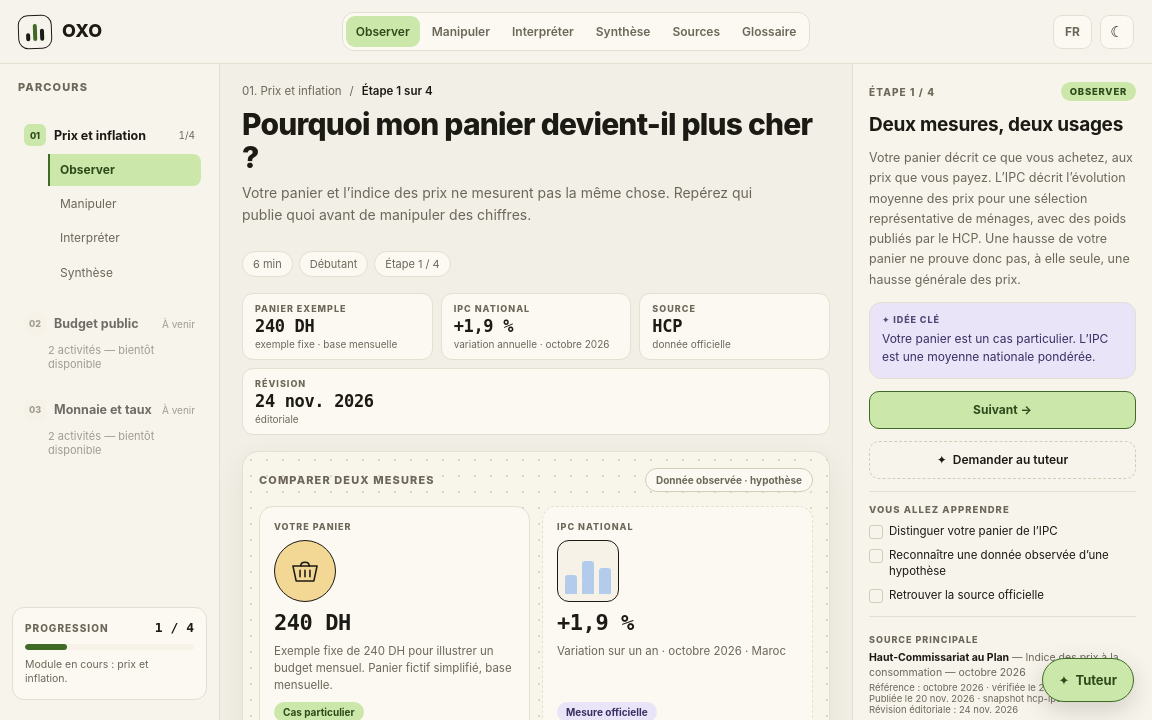
Test: App › charge le scénario réel HCP puis revient au mode hypothèse après modification
The image size is (1152, 720).
Click the button "Suivant →" at (1002, 410), box left=869, top=391, right=1136, bottom=429
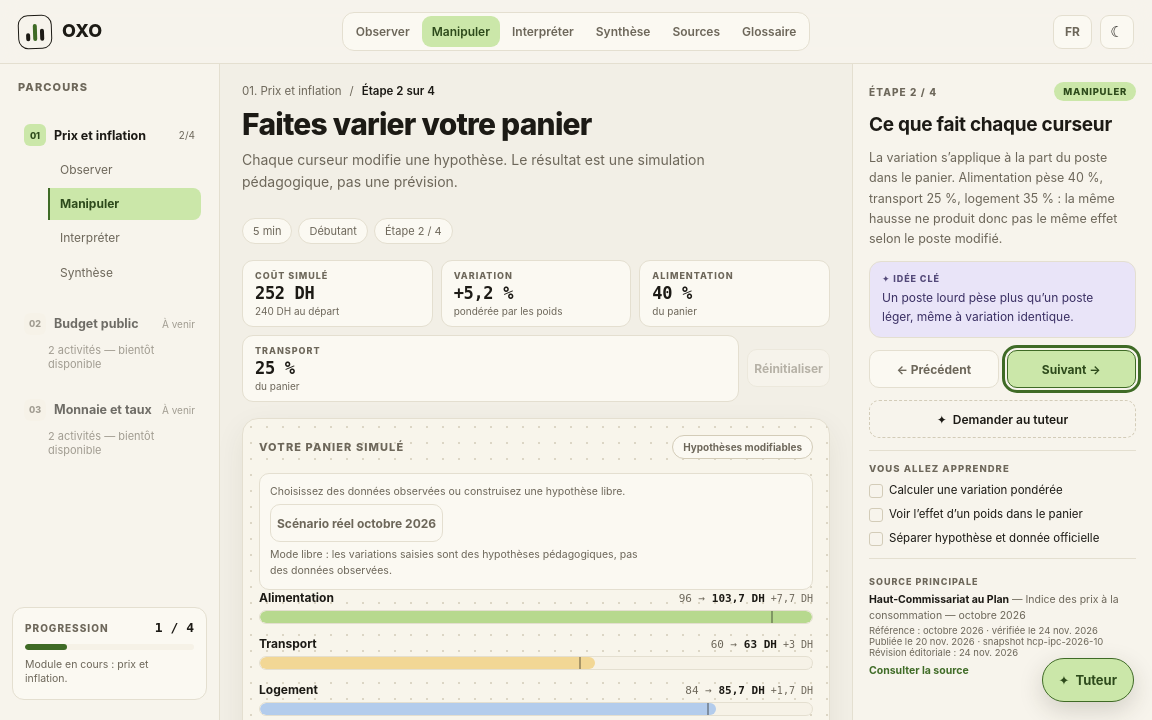
Click the button "Scénario réel octobre 2026" at (357, 524), box left=270, top=504, right=443, bottom=542
(page scrolled)
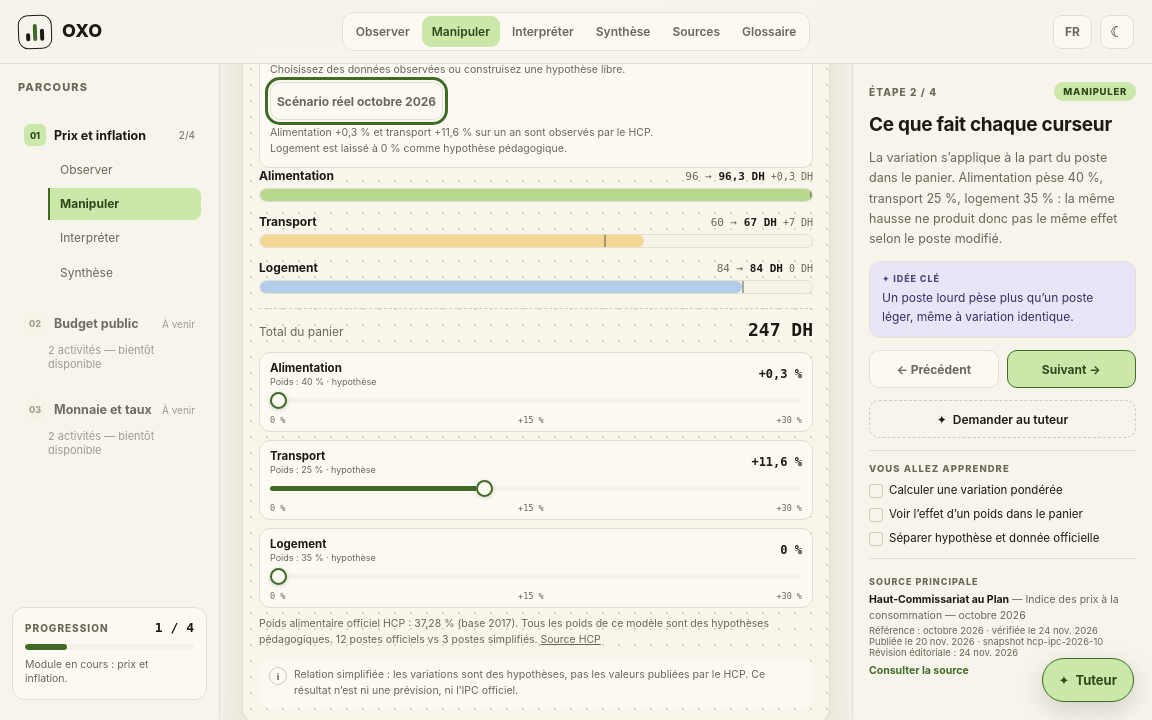
Check: the text "Logement est laissé à 0 % comme hypothèse pédagogique" is shown, box left=270, top=126, right=653, bottom=155
Set the slider labelled "Alimentation Poids : 40 % · hypothèse" to "1" at (295, 401), box left=270, top=391, right=802, bottom=411
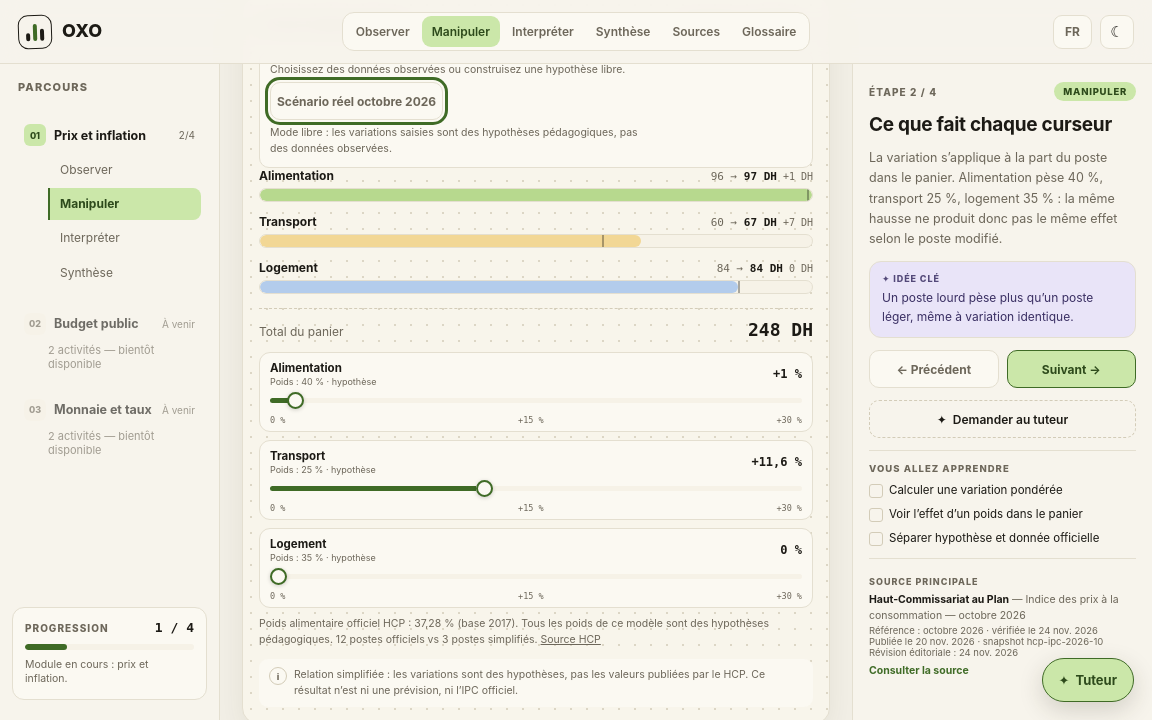
Check: the text "Mode libre : les variations saisies sont des hypothèses pédagogiques" is shown, box left=270, top=126, right=638, bottom=155
